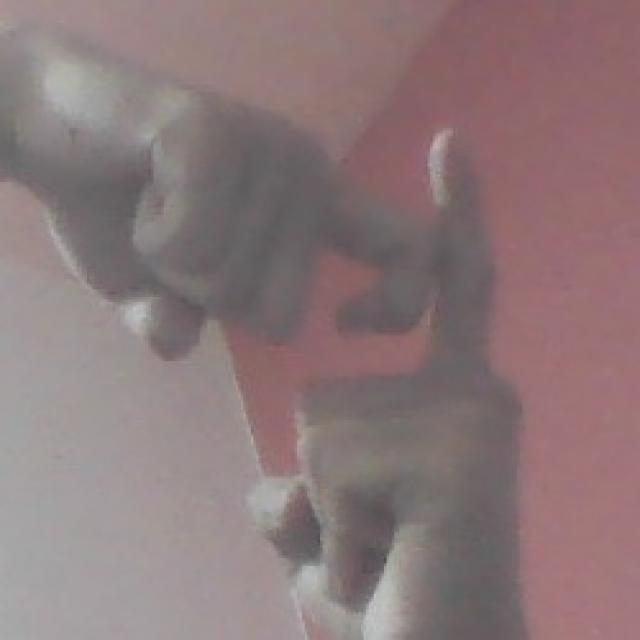Alphabet-K: (39, 15, 538, 640)
